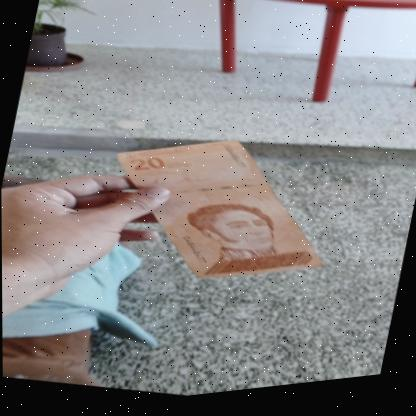twenty-front-vef: (91, 109, 347, 319)
